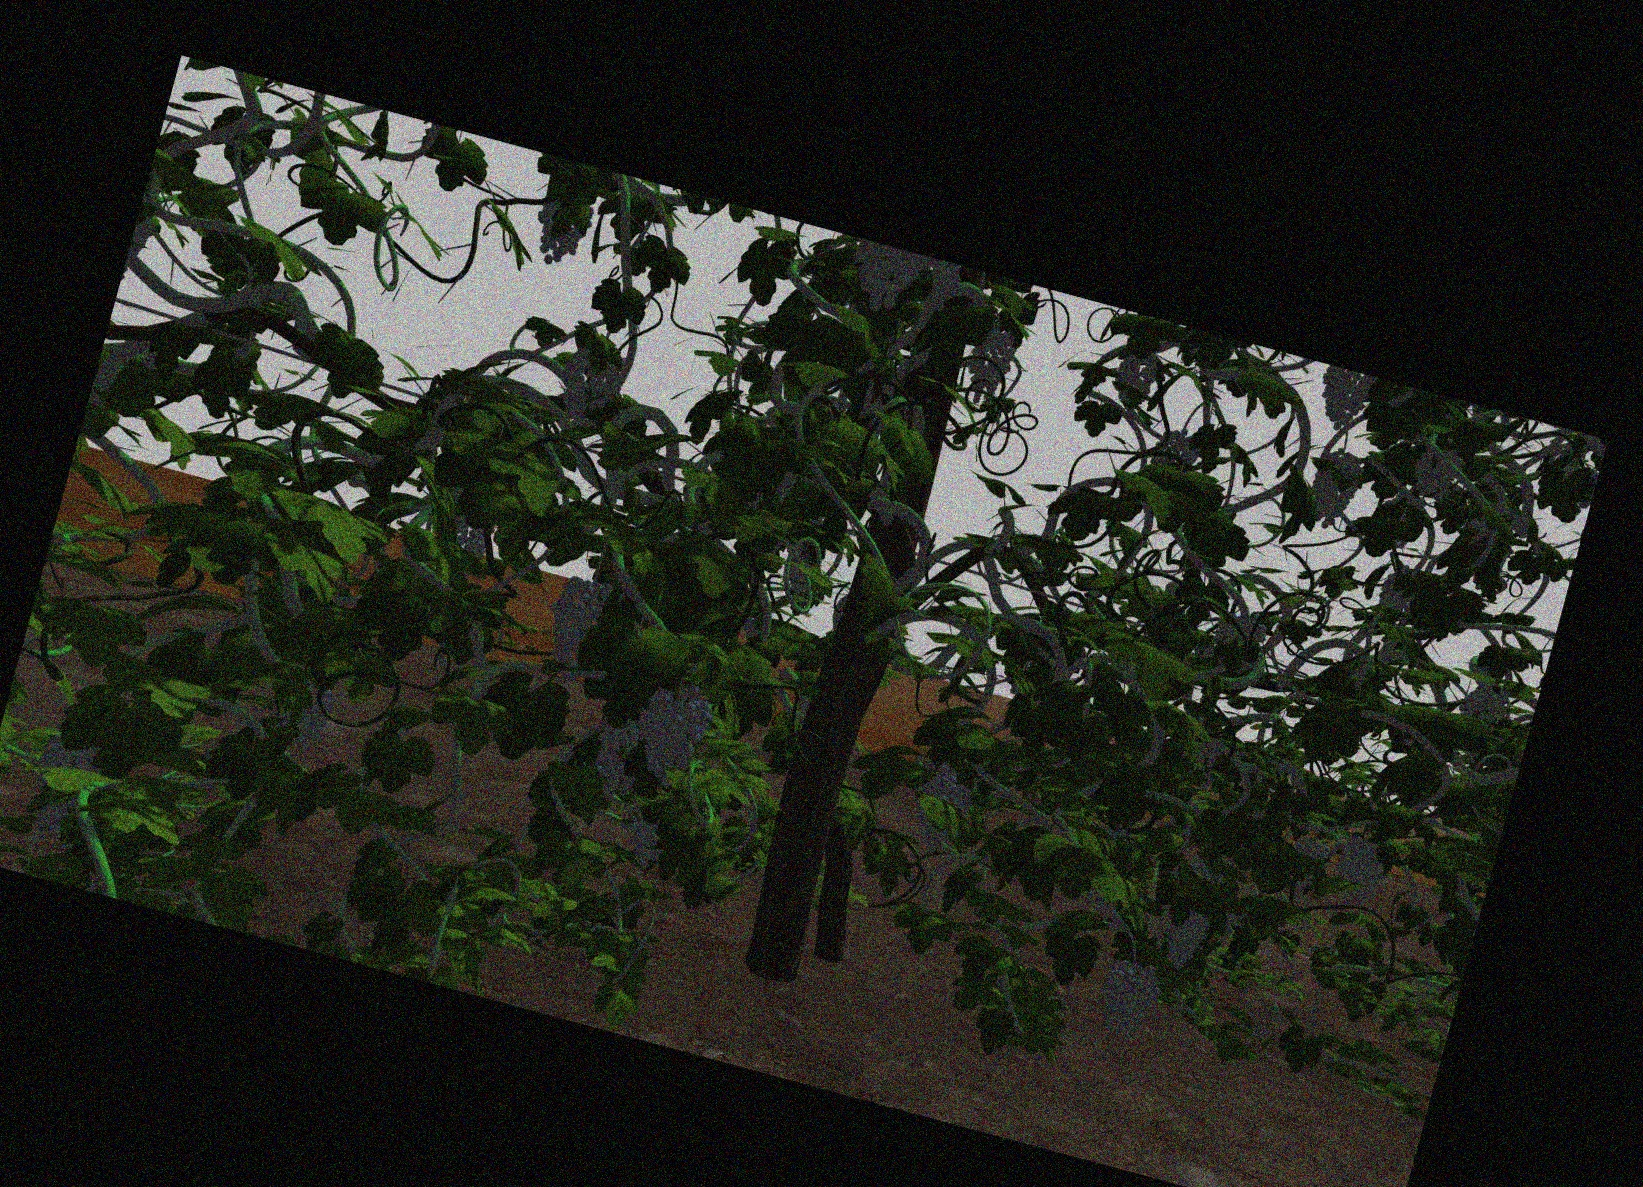grape: (546, 572, 603, 680), (645, 686, 705, 778), (1096, 963, 1160, 1044), (912, 768, 971, 856), (559, 338, 619, 418), (847, 251, 918, 312), (1306, 448, 1359, 529), (594, 710, 640, 796), (533, 198, 591, 263), (1334, 836, 1383, 907), (969, 326, 1014, 400), (1161, 903, 1209, 965), (1318, 374, 1369, 431), (1115, 349, 1157, 409), (1412, 449, 1462, 496)
